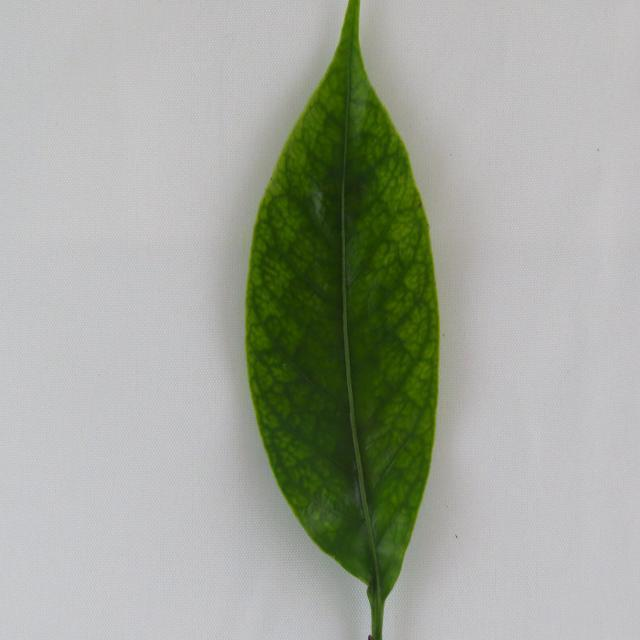DeficienciaNutricional-Manganeso: (246, 0, 439, 638)
